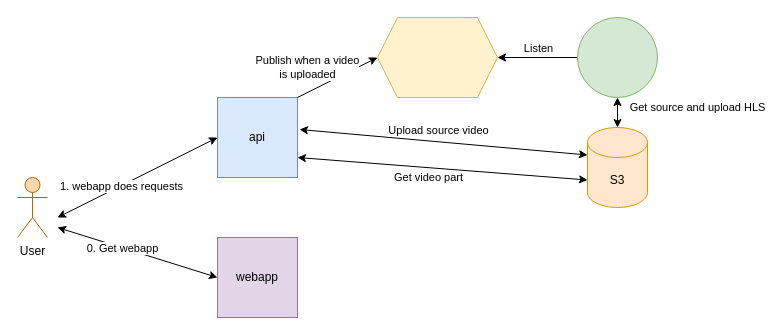
Image size: 783x335. Some labels were removed from this diagram. Here are the shapes that lost their labels. From the top down, the centre of each, then its label:
At (x=437, y=57): "Event bus".
At (x=617, y=57): "encoder".
